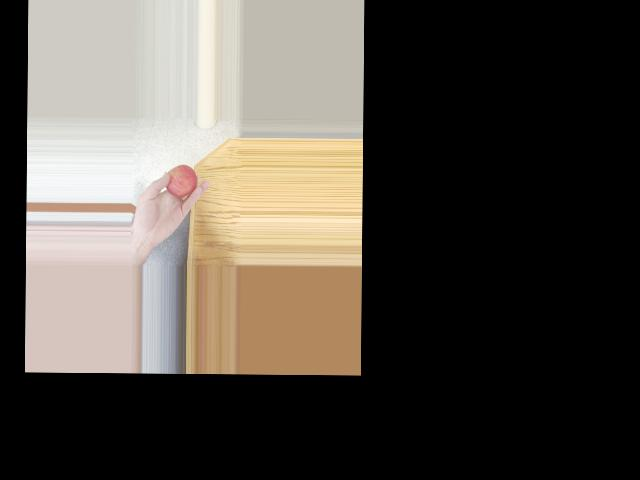apple: (165, 164, 197, 199)
